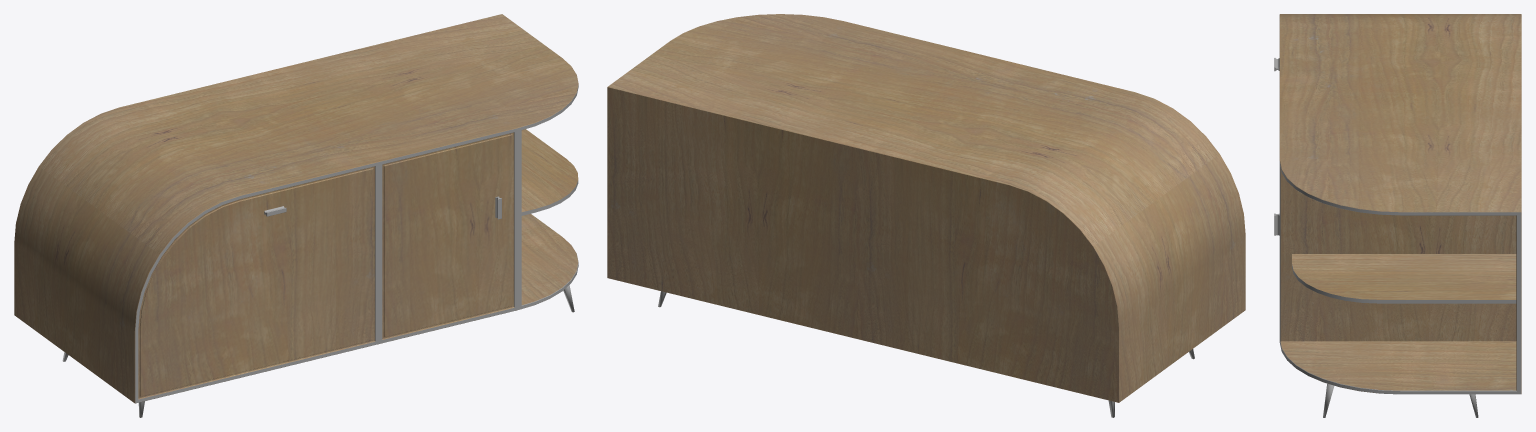
File: dlx_-_cupboard_wood.glb
3 views of the same model, side by side, from view 1: azimuth 30°, elevation 25°; view 2: azimuth 150°, elevation 25°; view 3: azimuth 270°, elevation 25° (orthographic). The views are drawn at different scales.
Parts seen in each view (by area): view 1: Schrank, Brett; view 2: Schrank; view 3: Schrank, Brett, Fuesse.
Part boxes in pixels (left/top/right/bottom): Schrank: left=14, top=14, right=578, bottom=403; Brett: left=521, top=129, right=578, bottom=215; Schrank: left=607, top=14, right=1245, bottom=402; Schrank: left=1274, top=14, right=1521, bottom=394; Brett: left=1292, top=254, right=1516, bottom=303; Fuesse: left=1323, top=383, right=1478, bottom=417.
Size of the model in its own units: 1.4 by 0.6 by 0.6134.
2 materials, 1 textured.
